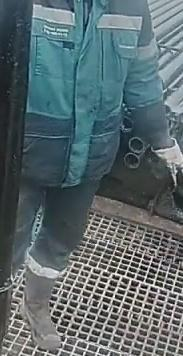gloves: (150, 132, 183, 186)
vest: (19, 0, 152, 189)
